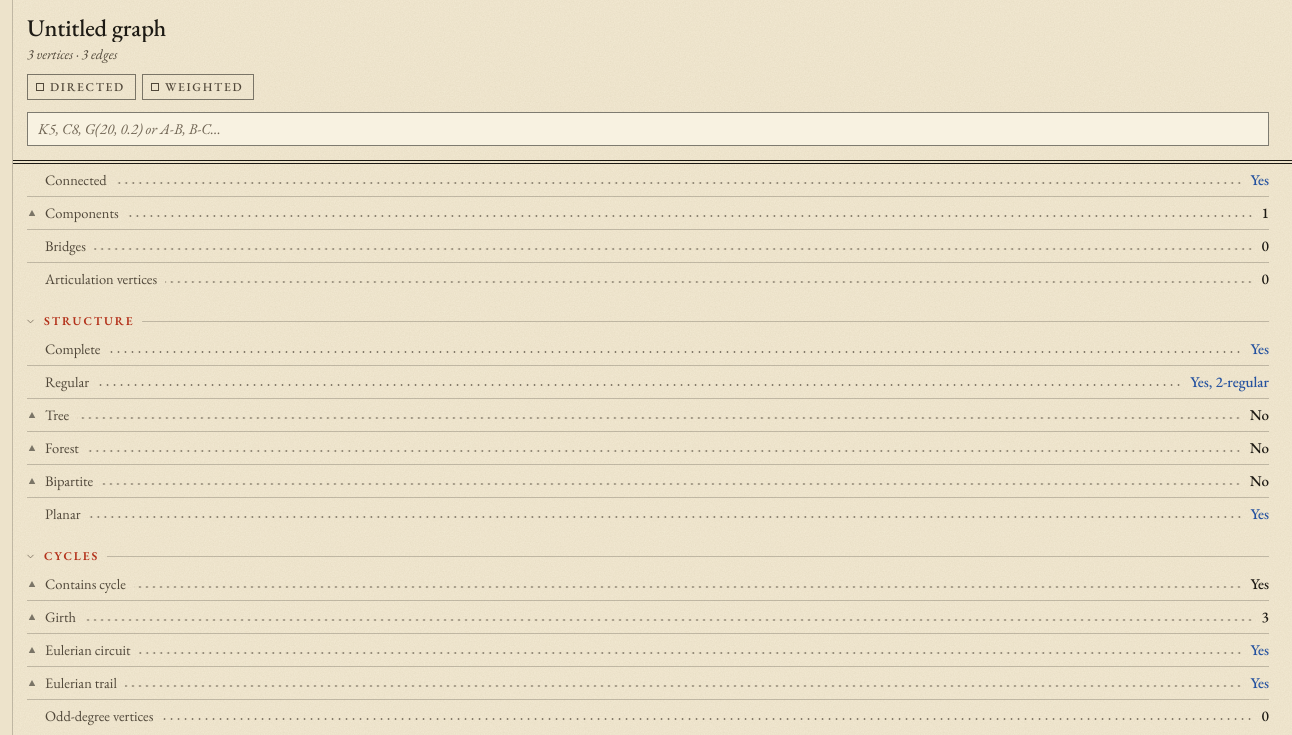
Test: Inspector › refreshes the prose when a vertex is renamed
(page scrolled)
Click the button "Bipartite No" at (648, 482), box [27,465,1269,498]
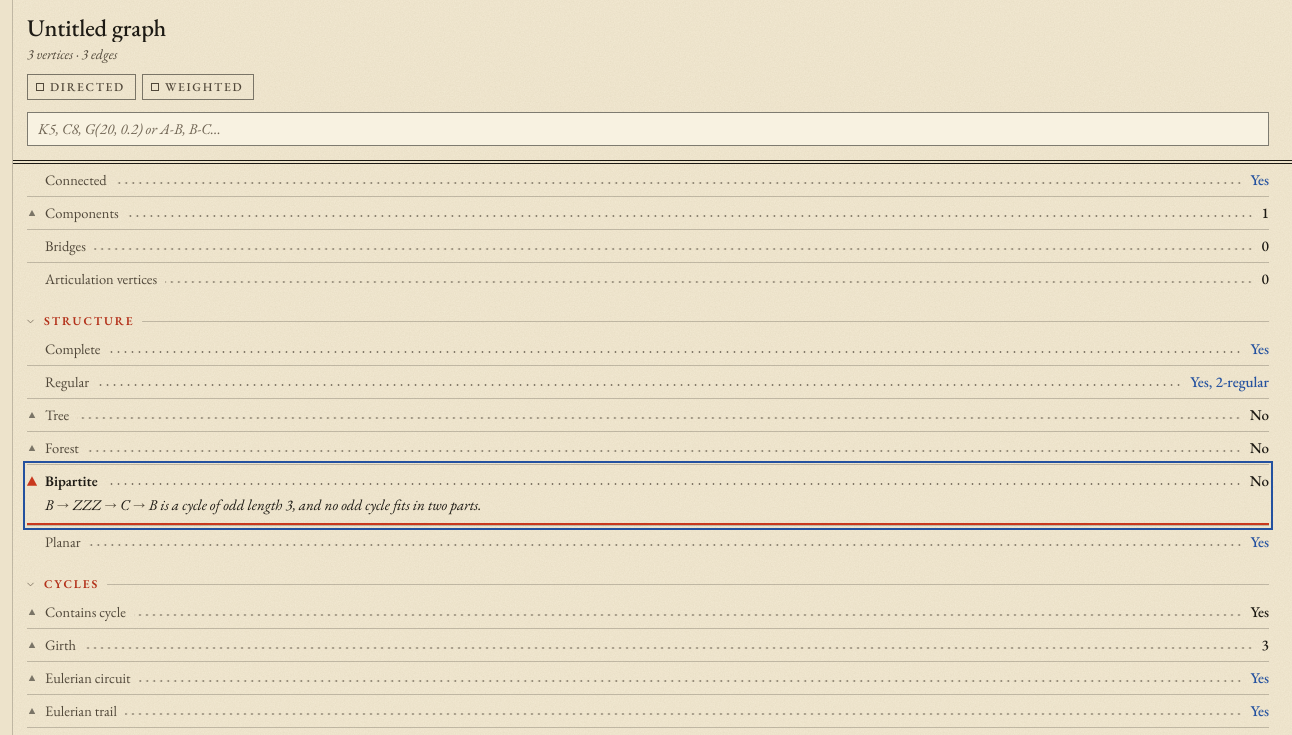
Expected: the text "odd length 3" is shown, [146,495,481,514]
Expected: the text "odd length 3" shows "ZZZ", [70,495,104,514]
